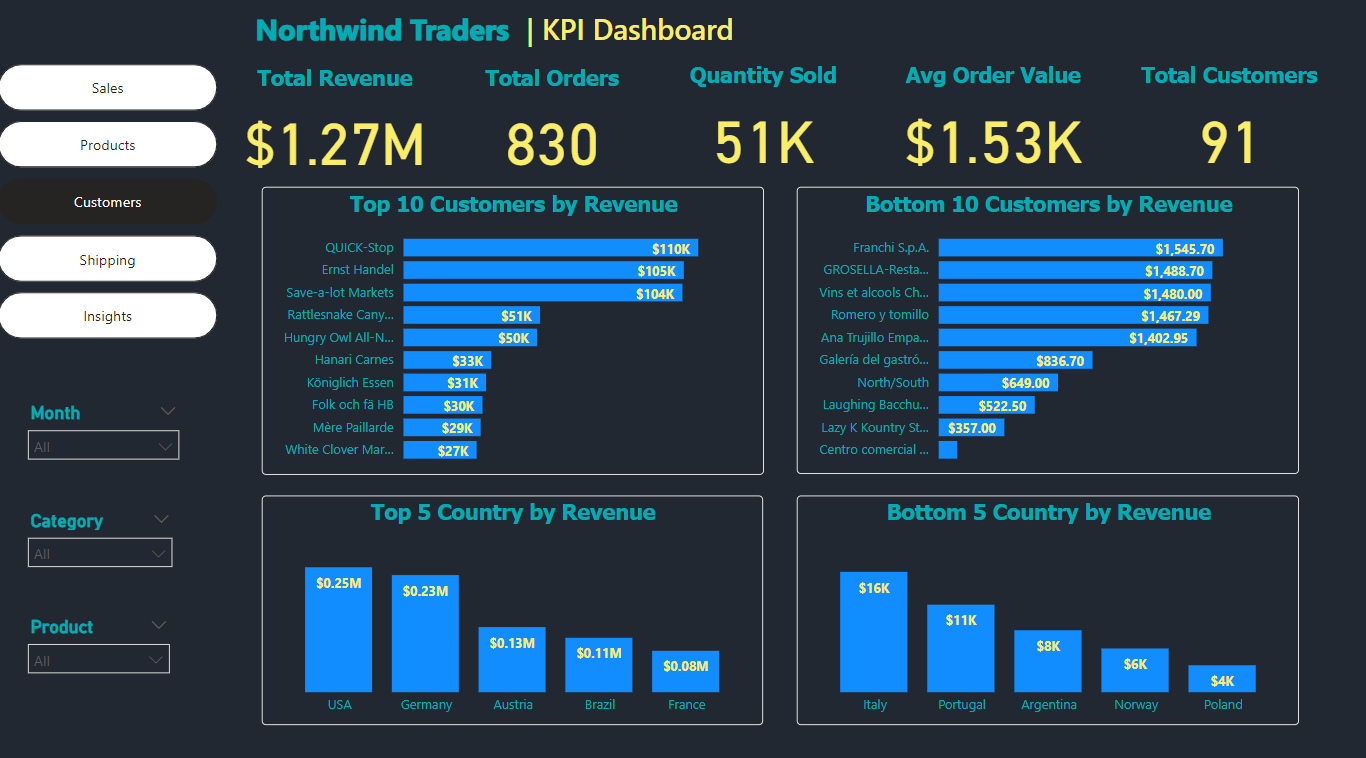

The page's visual inventory and layout, read from the dashboard file:
{"tool":"powerbi","page":{"name":"Customers","canvas":[1280,720],"ordinal":2},"visuals":[{"type":"slicer","fields":{"Values":["date.Month"]},"box":[17.6,380.7,160.8,71.6],"z":0},{"type":"card","title":"Total Revenue","fields":{"Values":["Key Measures.Revenue"]},"box":[218.6,70.4,189.7,110.6],"z":1000},{"type":"card","title":"Total Orders","fields":{"Values":["Key Measures.Number of Orders"]},"box":[415,70.4,201,110.6],"z":2000},{"type":"card","title":"Quantity Sold","fields":{"Values":["Key Measures.Total Quantity"]},"box":[623.2,69.1,177.2,111.8],"z":3000},{"type":"card","title":"Avg Order Value","fields":{"Values":["Key Measures.Avg Order Value"]},"box":[829.2,69.1,193.5,111.8],"z":4000},{"type":"textbox","title":"Northwind Traders","box":[154.5,20.1,405.8,42.7],"z":5000},{"type":"textbox","title":"| KPI Dashboard","box":[447.3,20.1,280.2,36.4],"z":6000},{"type":"slicer","fields":{"Values":["categories.categoryName"]},"box":[17.6,479.9,154.5,76.6],"z":7000},{"type":"slicer","fields":{"Values":["products.productName"]},"box":[17.6,579.2,152,67.8],"z":8000},{"type":"card","title":"Total Customers","fields":{"Values":["CountNonNull(customers.contactName)"]},"box":[1031.5,69.1,228.7,111.8],"z":9000},{"type":"pageNavigator","box":[0,70.4,204.8,255],"z":10000},{"type":"clusteredBarChart","title":"Top 10 Customers by Revenue","fields":{"Y":["Key Measures.Revenue"],"Category":["customers.companyName"]},"box":[245,184.7,467.4,267.6],"z":11000},{"type":"clusteredBarChart","title":"Bottom 10 Customers by Revenue","fields":{"Y":["Key Measures.Revenue"],"Category":["customers.companyName"]},"box":[743,184.9,467.4,267.4],"z":12000},{"type":"columnChart","title":"Top 5 Country by Revenue","fields":{"Category":["Iso Countries.name"],"Y":["Key Measures.Revenue"]},"box":[245.3,472.1,466.3,214],"z":13000},{"type":"columnChart","title":"Bottom 5 Country by Revenue","fields":{"Category":["Iso Countries.name"],"Y":["Key Measures.Revenue"]},"box":[743,472.1,467.4,214],"z":14000}]}

Visuals, with their boxes in screenshot pixels (x1, y1, x2, y2), scaled from the page's 1280x720 canvas onto the 1366x758 screenshot:
slicer - date.Month: 19 401 190 476
"Total Revenue" card: 233 74 436 191
"Total Orders" card: 443 74 657 191
"Quantity Sold" card: 665 73 854 190
"Avg Order Value" card: 885 73 1091 190
"Northwind Traders" textbox: 165 21 598 66
"| KPI Dashboard" textbox: 477 21 776 59
slicer - categories.categoryName: 19 505 184 586
slicer - products.productName: 19 610 181 681
"Total Customers" card: 1101 73 1345 190
pageNavigator: 0 74 219 343
"Top 10 Customers by Revenue" clusteredBarChart: 261 194 760 476
"Bottom 10 Customers by Revenue" clusteredBarChart: 793 195 1292 476
"Top 5 Country by Revenue" columnChart: 262 497 759 722
"Bottom 5 Country by Revenue" columnChart: 793 497 1292 722
